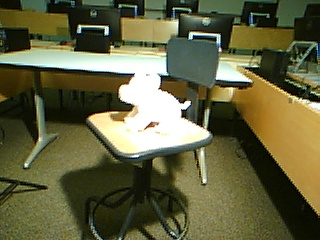piggy: (118, 66, 192, 139)
